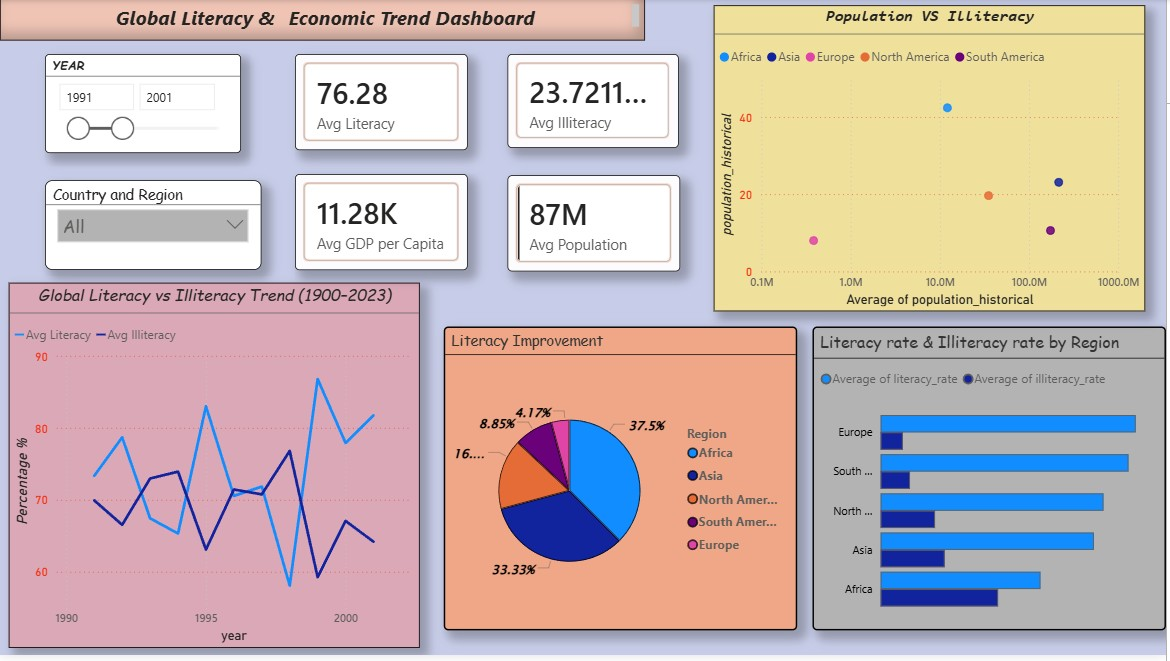

This screenshot's page, from the dashboard's own definition file:
{"tool":"powerbi","page":{"name":"Page 1","canvas":[1280,720],"ordinal":0},"visuals":[{"type":"textbox","box":[0,0,708.2,45.8],"z":0},{"type":"slicer","title":"YEAR","fields":{"Values":["year querry.year"]},"box":[49.4,60.4,215.4,108.4],"z":1000},{"type":"slicer","title":"   Country and Region","fields":{"Values":["Dim_country.owid_region","Dim_country.country"]},"box":[49.4,199,237.4,98.8],"z":3000},{"type":"cardVisual","fields":{"Data":["df_illiteracy.Avg Illiteracy"]},"box":[557.1,60.4,188,102.9],"z":4000},{"type":"lineChart","title":"Global Literacy vs Illiteracy Trend (1900–2023)","fields":{"Category":["year querry.year"],"Y":["df_illiteracy.Avg Literacy"],"Y2":["df_illiteracy.Avg Illiteracy"]},"box":[9.6,311.5,451.5,400.7],"z":5000},{"type":"clusteredBarChart","title":"Literacy rate & Illiteracy rate by Region","fields":{"Category":["Dim_country.owid_region"],"Y":["Avg(df_illiteracy.literacy_rate)","Avg(df_illiteracy.illiteracy_rate)"]},"box":[891.9,359.5,388.3,333.4],"z":6000},{"type":"cardVisual","fields":{"Data":["df_gdp_schooling.Avg GDP per Capita"]},"box":[323.8,192.1,189.4,105.7],"z":7000},{"type":"cardVisual","fields":{"Data":["df_illiteracy.Avg Literacy"]},"box":[323.8,60.4,189.4,105.7],"z":8000},{"type":"scatterChart","title":"Population VS  Illiteracy","fields":{"X":["df_gdp_schooling.population_historical"],"Y":["df_illiteracy.Avg Illiteracy"],"Series":["Dim_country.owid_region"]},"box":[783.5,6.9,473.4,336.2],"z":9000},{"type":"pieChart","title":"Literacy Improvement","fields":{"Category":["Dim_country.owid_region"],"Y":["df_literacy.Literacy Improvement"]},"box":[487.1,359.5,388.3,333.4],"z":10000},{"type":"cardVisual","fields":{"Data":["Avg(df_gdp_schooling.population_historical)"]},"box":[557.1,193.5,189.4,105.7],"z":11000}]}

Visuals, with their boxes in screenshot pixels (x1, y1, x2, y2), scaled from the page's 1280x720 canvas onto the 1170x661 screenshot:
textbox: 0,0,647,42
"YEAR" slicer: 45,55,242,155
"   Country and Region" slicer: 45,183,262,273
cardVisual - df_illiteracy.Avg Illiteracy: 509,55,681,150
"Global Literacy vs Illiteracy Trend (1900–2023)" lineChart: 9,286,421,654
"Literacy rate & Illiteracy rate by Region" clusteredBarChart: 815,330,1169,636
cardVisual - df_gdp_schooling.Avg GDP per Capita: 296,176,469,273
cardVisual - df_illiteracy.Avg Literacy: 296,55,469,152
"Population VS  Illiteracy" scatterChart: 716,6,1149,315
"Literacy Improvement" pieChart: 445,330,800,636
cardVisual - Avg(df_gdp_schooling.population_historical): 509,178,682,275
